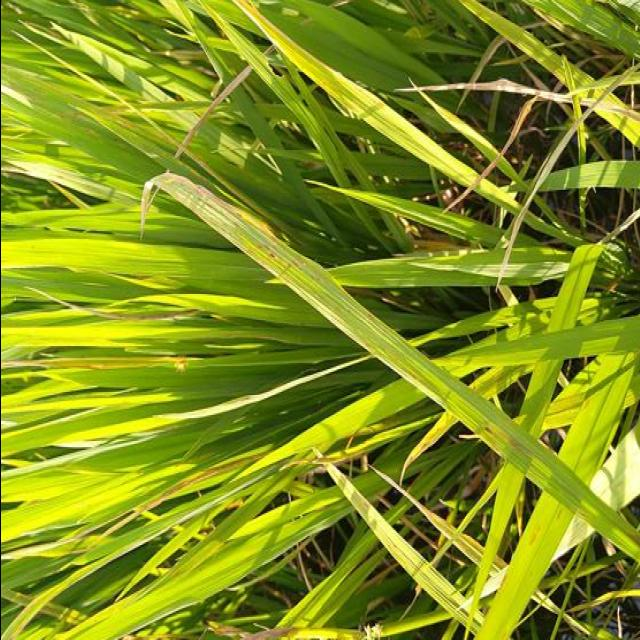Leaf Blight: (0, 351, 188, 372)
Leaf Streak: (142, 170, 357, 343)
